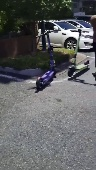beam: (33, 28, 62, 92)
gcooter: (66, 27, 91, 79)
